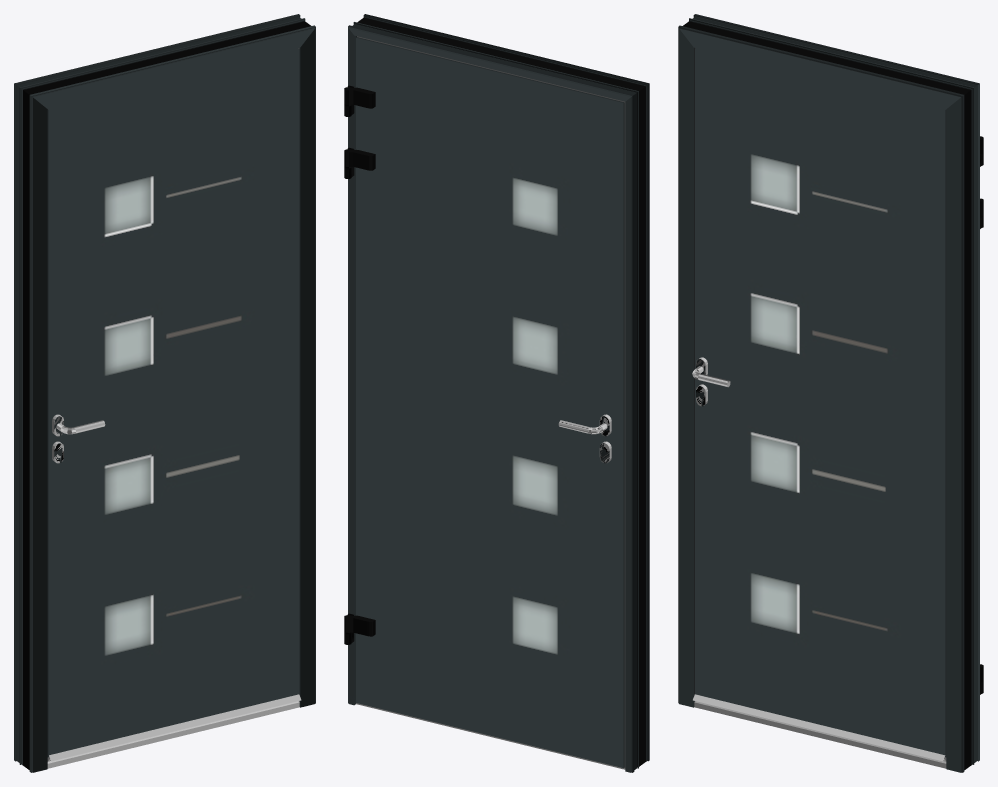
3 renders of one model, left to right at view 1: azimuth 30°, elevation 25°; view 2: azimuth 150°, elevation 25°; view 3: azimuth 330°, elevation 25°, orthographic.
Visible parts, largest first — view 1: ouvrant, 105; view 2: ouvrant, 105; view 3: ouvrant, 105.
Part boxes in pixels (<box>): ouvrant: <box>47,48,301,761</box>; 105: <box>14,14,315,772</box>; ouvrant: <box>344,36,625,768</box>; 105: <box>344,14,649,772</box>; ouvrant: <box>693,48,983,761</box>; 105: <box>678,14,983,772</box>.
Bounding box in the file's own units: 96 × 218 × 24.64.
1 material, 1 textured.
